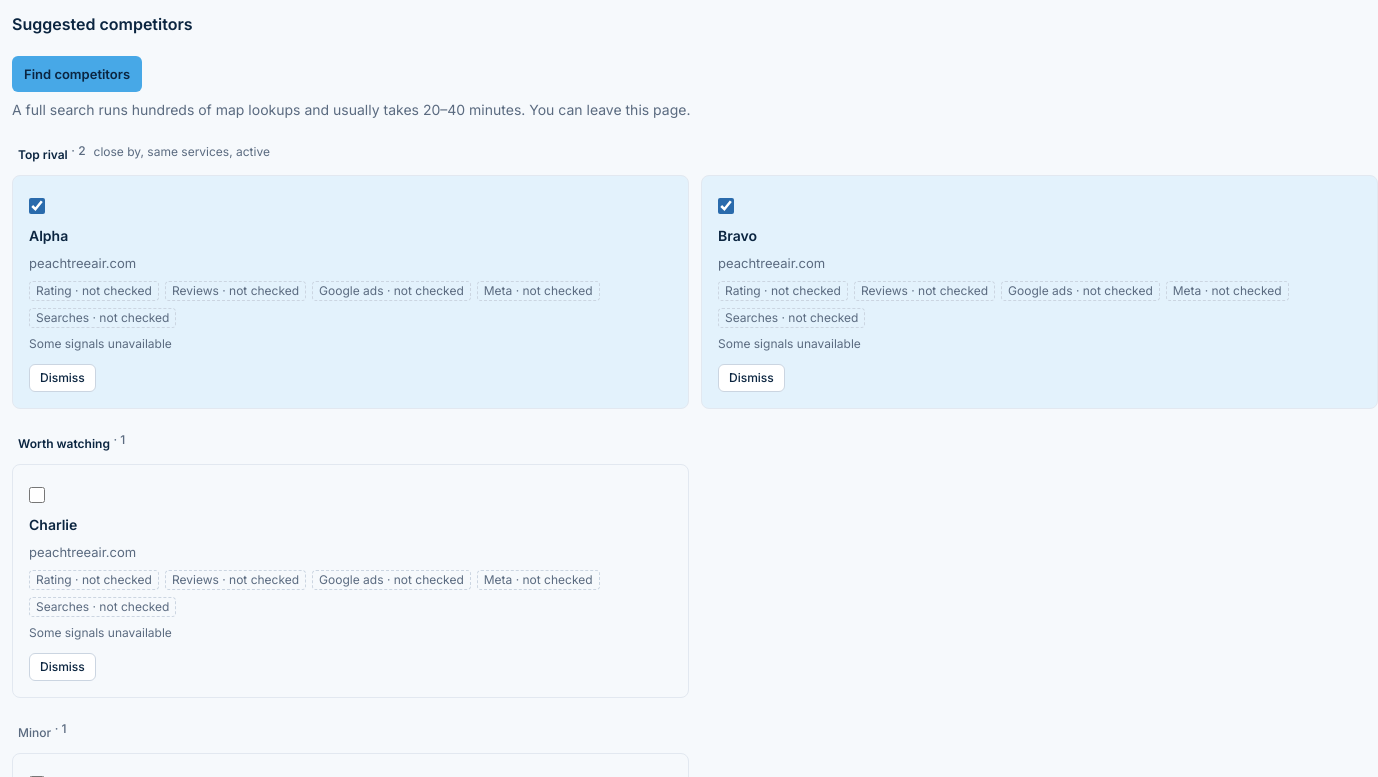
Test: SuggestionsPanel tiers and selection › clicking the suggestion name toggles its checkbox (the name block is the label)
This screenshot has width=1378, height=777.
Click the text "Charlie".
click(53, 524)  # box [29,516,77,533]
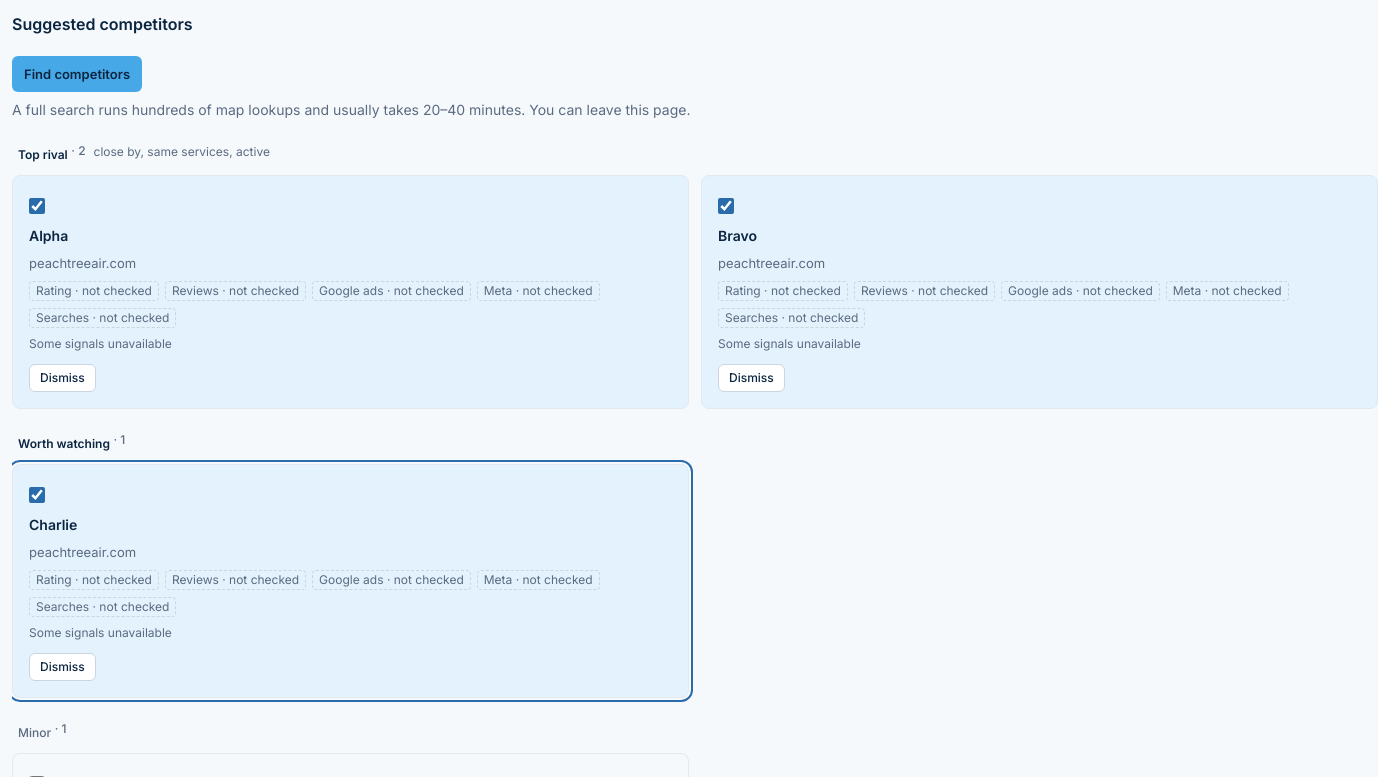
Expected: the checkbox named "track charlie" is checked, [29,487,45,503]
Click the text "Charlie".
click(53, 524)  # box [29,516,77,533]
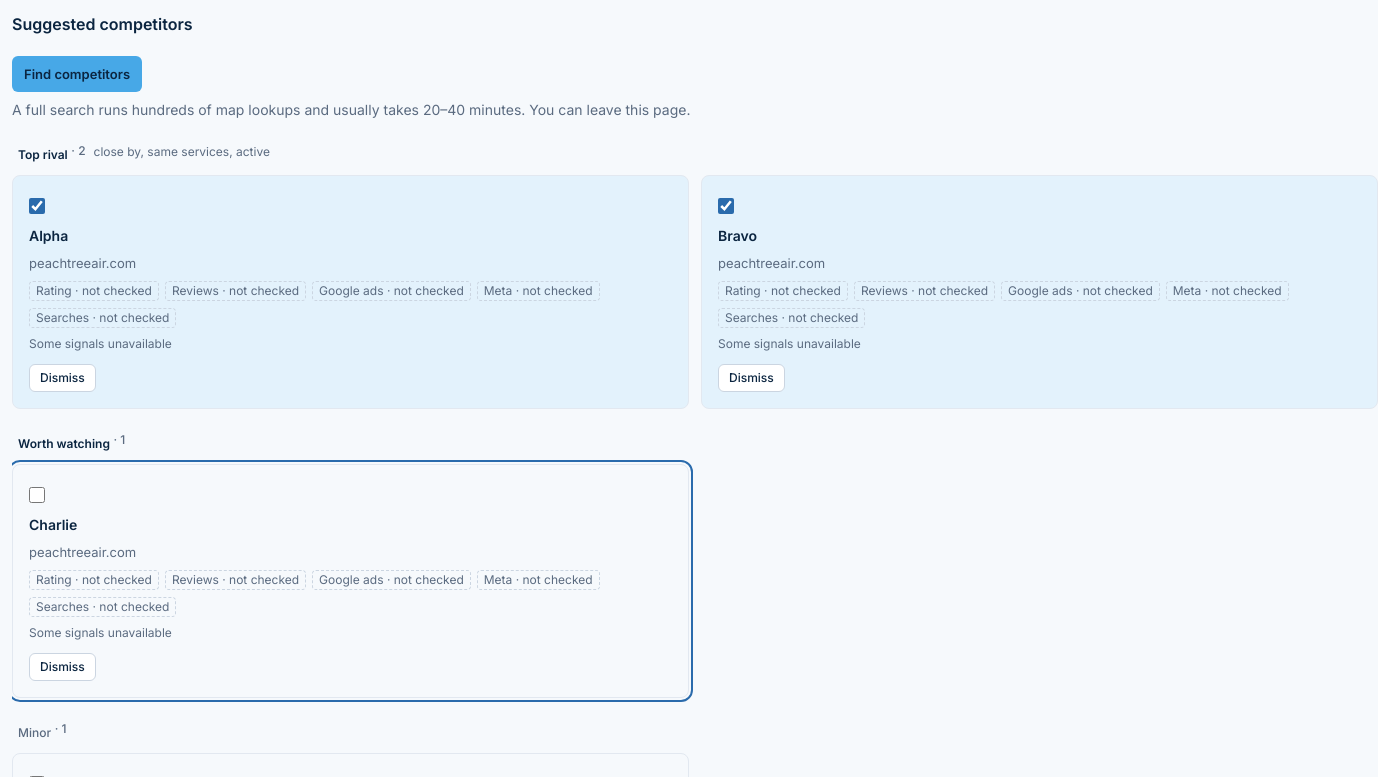
Expected: the checkbox named "track charlie" is not checked, [29,487,45,503]
